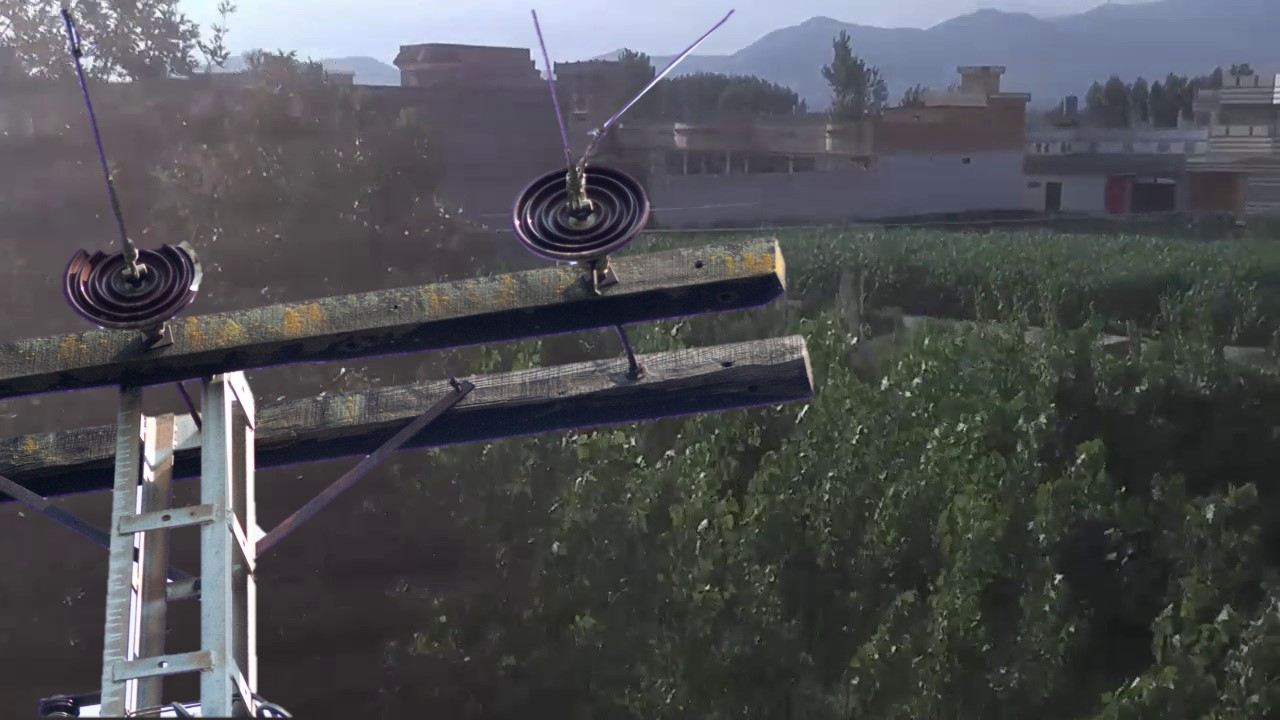defect_disc: (61, 233, 208, 335)
insulator_disc: (507, 156, 655, 262)
